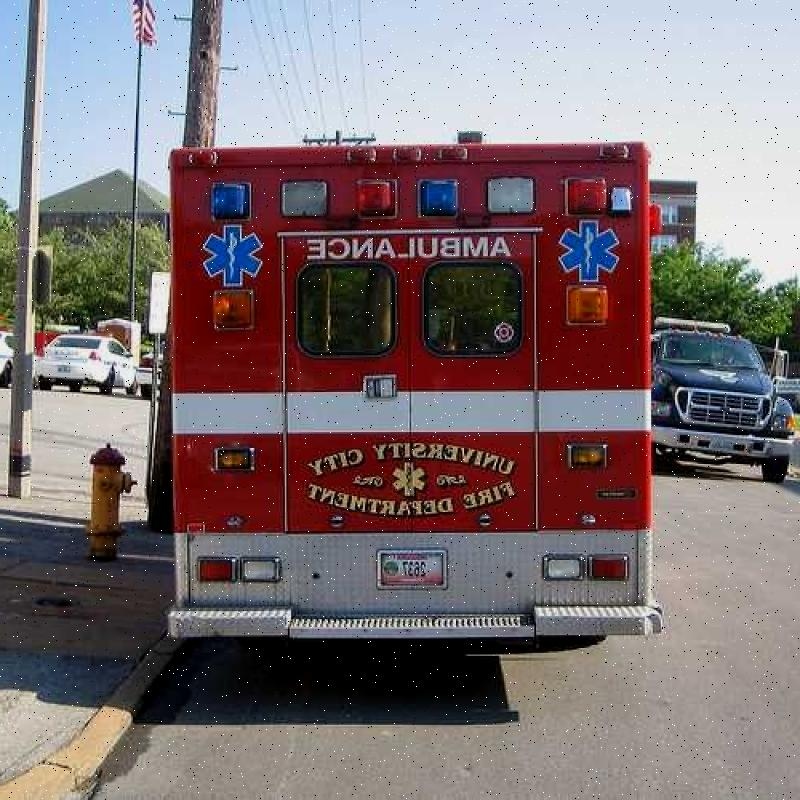AmbulanceSiren: (195, 158, 615, 235)
